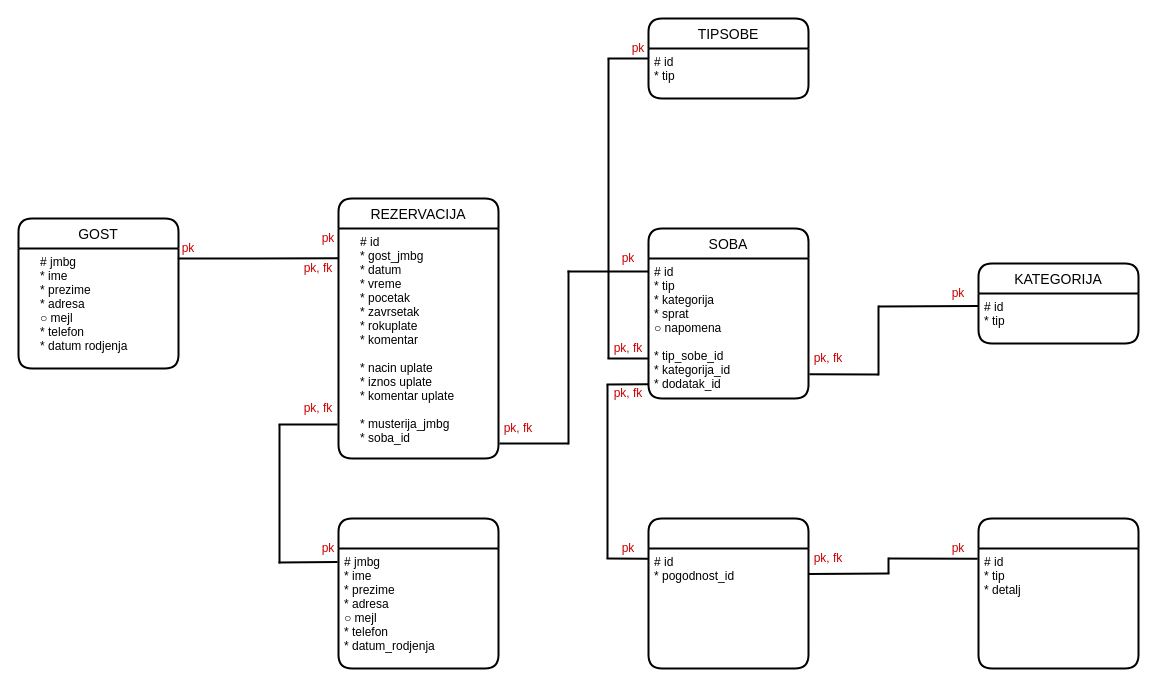
This 1156x686 diagram has some shape labels left out. Here are the shapes that lost their labels. From the top down, the box of each, then its label:
(337, 517, 499, 669): MUSTERIJA
(647, 517, 809, 669): DODATAK
(977, 517, 1139, 669): POGODNOST
